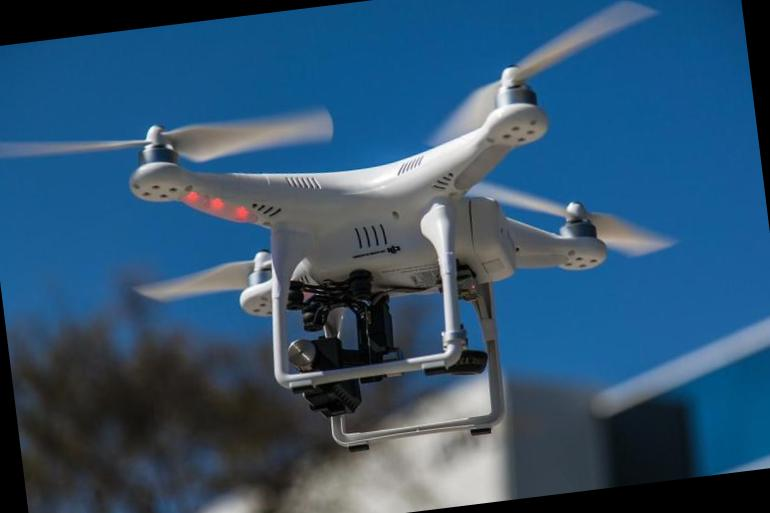drone: (15, 0, 715, 395)
